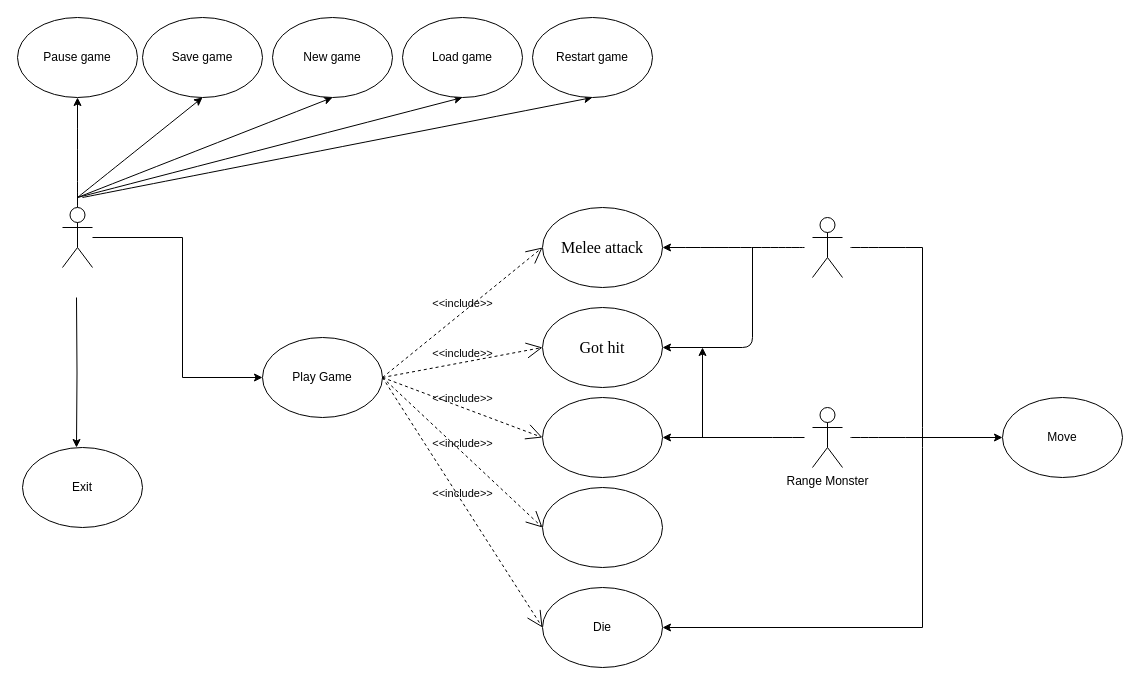
Image size: 1140x685. Some labels were removed from this diagram. The box of each missing label's shape, as (x1, y1, x2, y2) in pixels:
Firing Projectile: (542, 396, 662, 478)
Melee Monster: (812, 216, 842, 278)
Player: (62, 206, 92, 268)
Player Movement: (542, 486, 662, 568)
